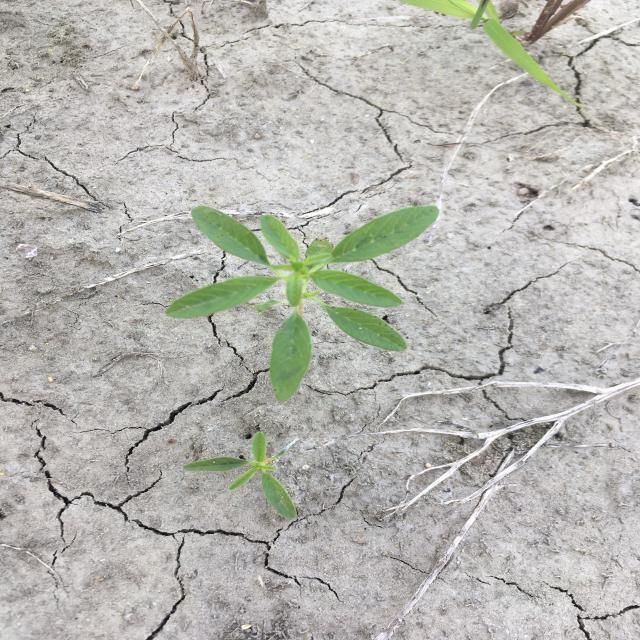Waterhemp: (163, 205, 442, 405), (180, 431, 299, 522)
